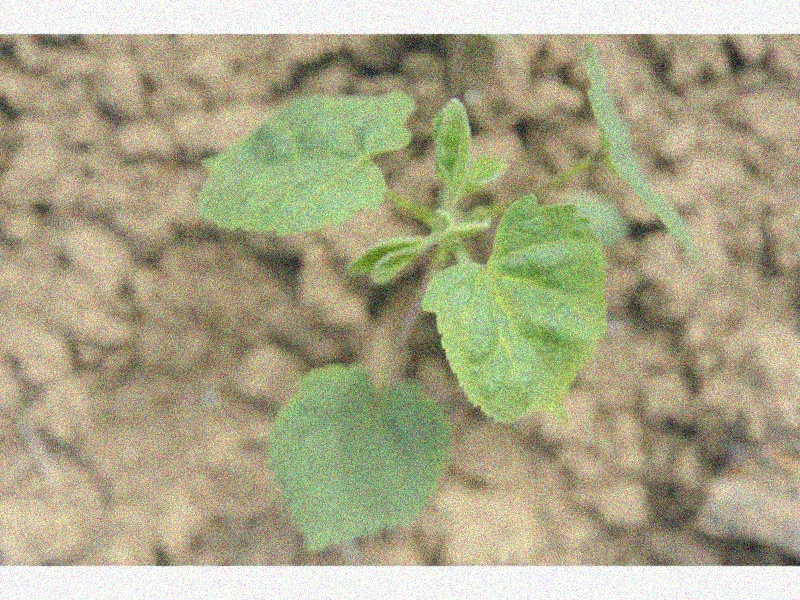velvet: (199, 46, 703, 551)
